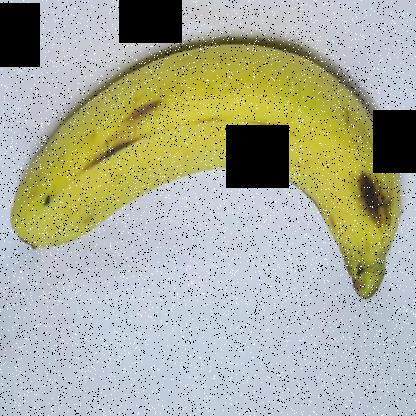freshripe: (3, 28, 410, 313)
